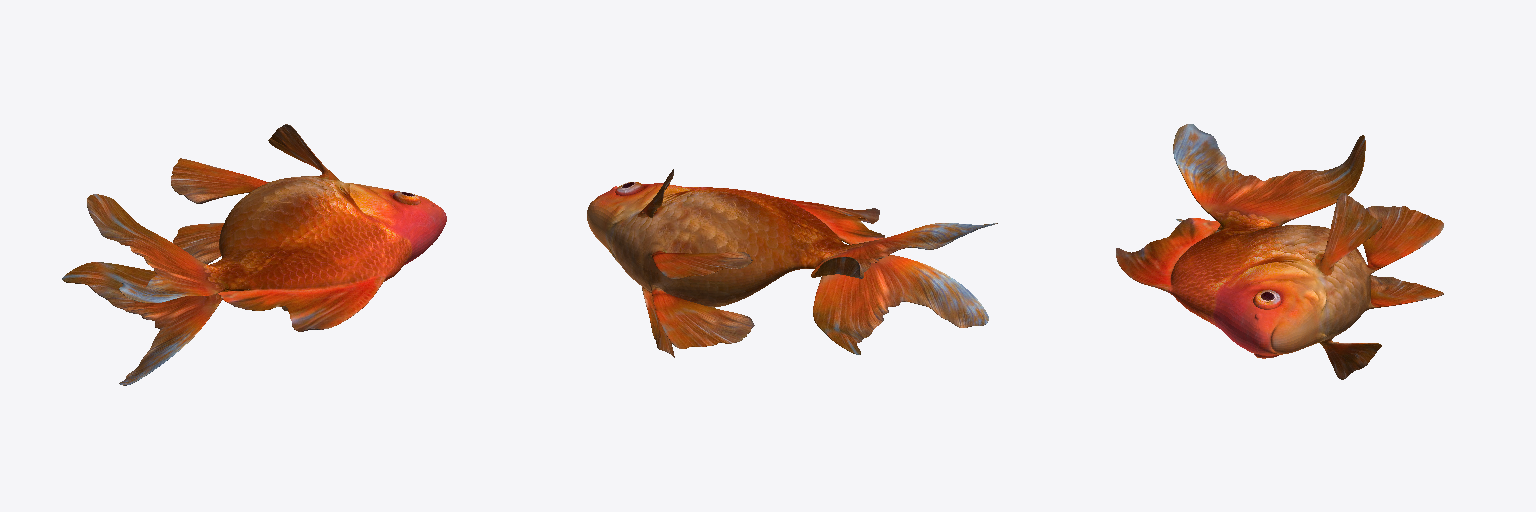
3 renders of one model, left to right at view 1: azimuth 30°, elevation 25°; view 2: azimuth 150°, elevation 25°; view 3: azimuth 270°, elevation 25°, orthographic.
Visible parts, largest first — view 1: Ryukin_Goldfish; view 2: Ryukin_Goldfish; view 3: Ryukin_Goldfish.
Boxes of the visible parts, <box> form: Ryukin_Goldfish: <box>62,124,446,385</box>; Ryukin_Goldfish: <box>587,169,997,357</box>; Ryukin_Goldfish: <box>1116,124,1443,379</box>.
Bounding box in the file's own units: 13.13 × 6.45 × 10.27.
Materials: 1 (1 with a texture image).